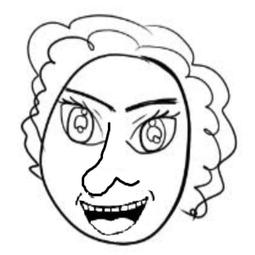eye: (123, 108, 182, 157), (57, 96, 105, 146)
frowning_eyebrow: (66, 86, 117, 113), (126, 95, 178, 112)
large_nose: (81, 120, 140, 198)
open_mouth: (78, 193, 158, 239)
